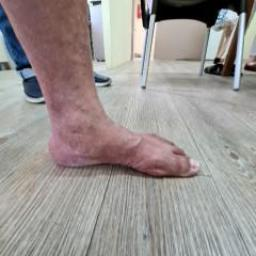Medial View -Left Foot-: (31, 88, 220, 200)
